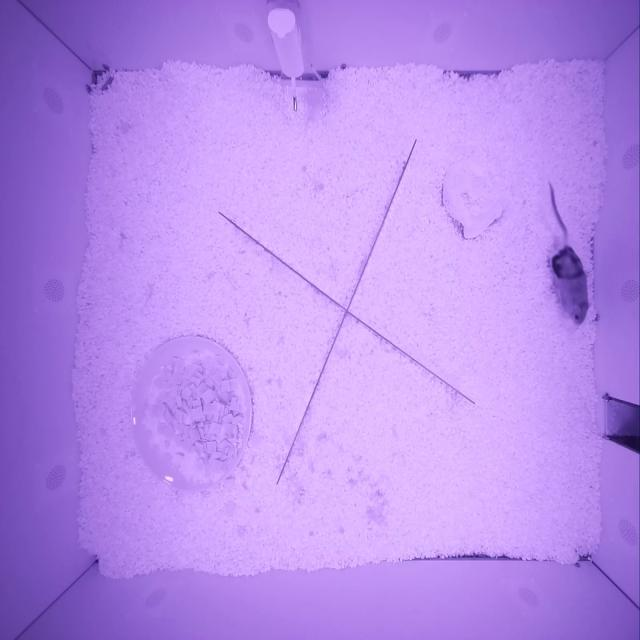adult_back: (551, 245, 588, 325)
